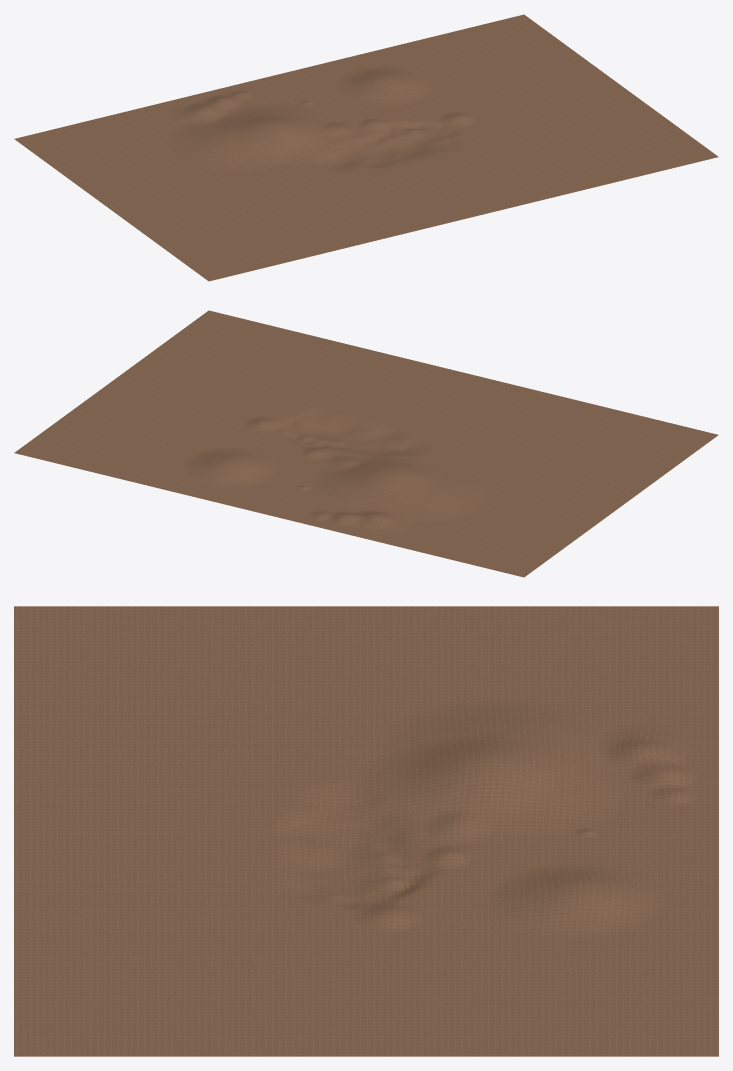
Rendered from Ground.glb.
3 views of the same model, one above another, from view 1: azimuth 30°, elevation 25°; view 2: azimuth 150°, elevation 25°; view 3: azimuth 270°, elevation 25° (orthographic). The views are drawn at different scales.
Parts seen in each view (by area): view 1: ground.001; view 2: ground.001; view 3: ground.001.
Part boxes in pixels (x1,y1,x2,y2): ground.001: (14, 14, 718, 281); ground.001: (14, 310, 718, 577); ground.001: (14, 606, 718, 1056).
Size of the model in its own units: 127 by 3.21 by 83.7.
Materials: 1 (1 with a texture image).
